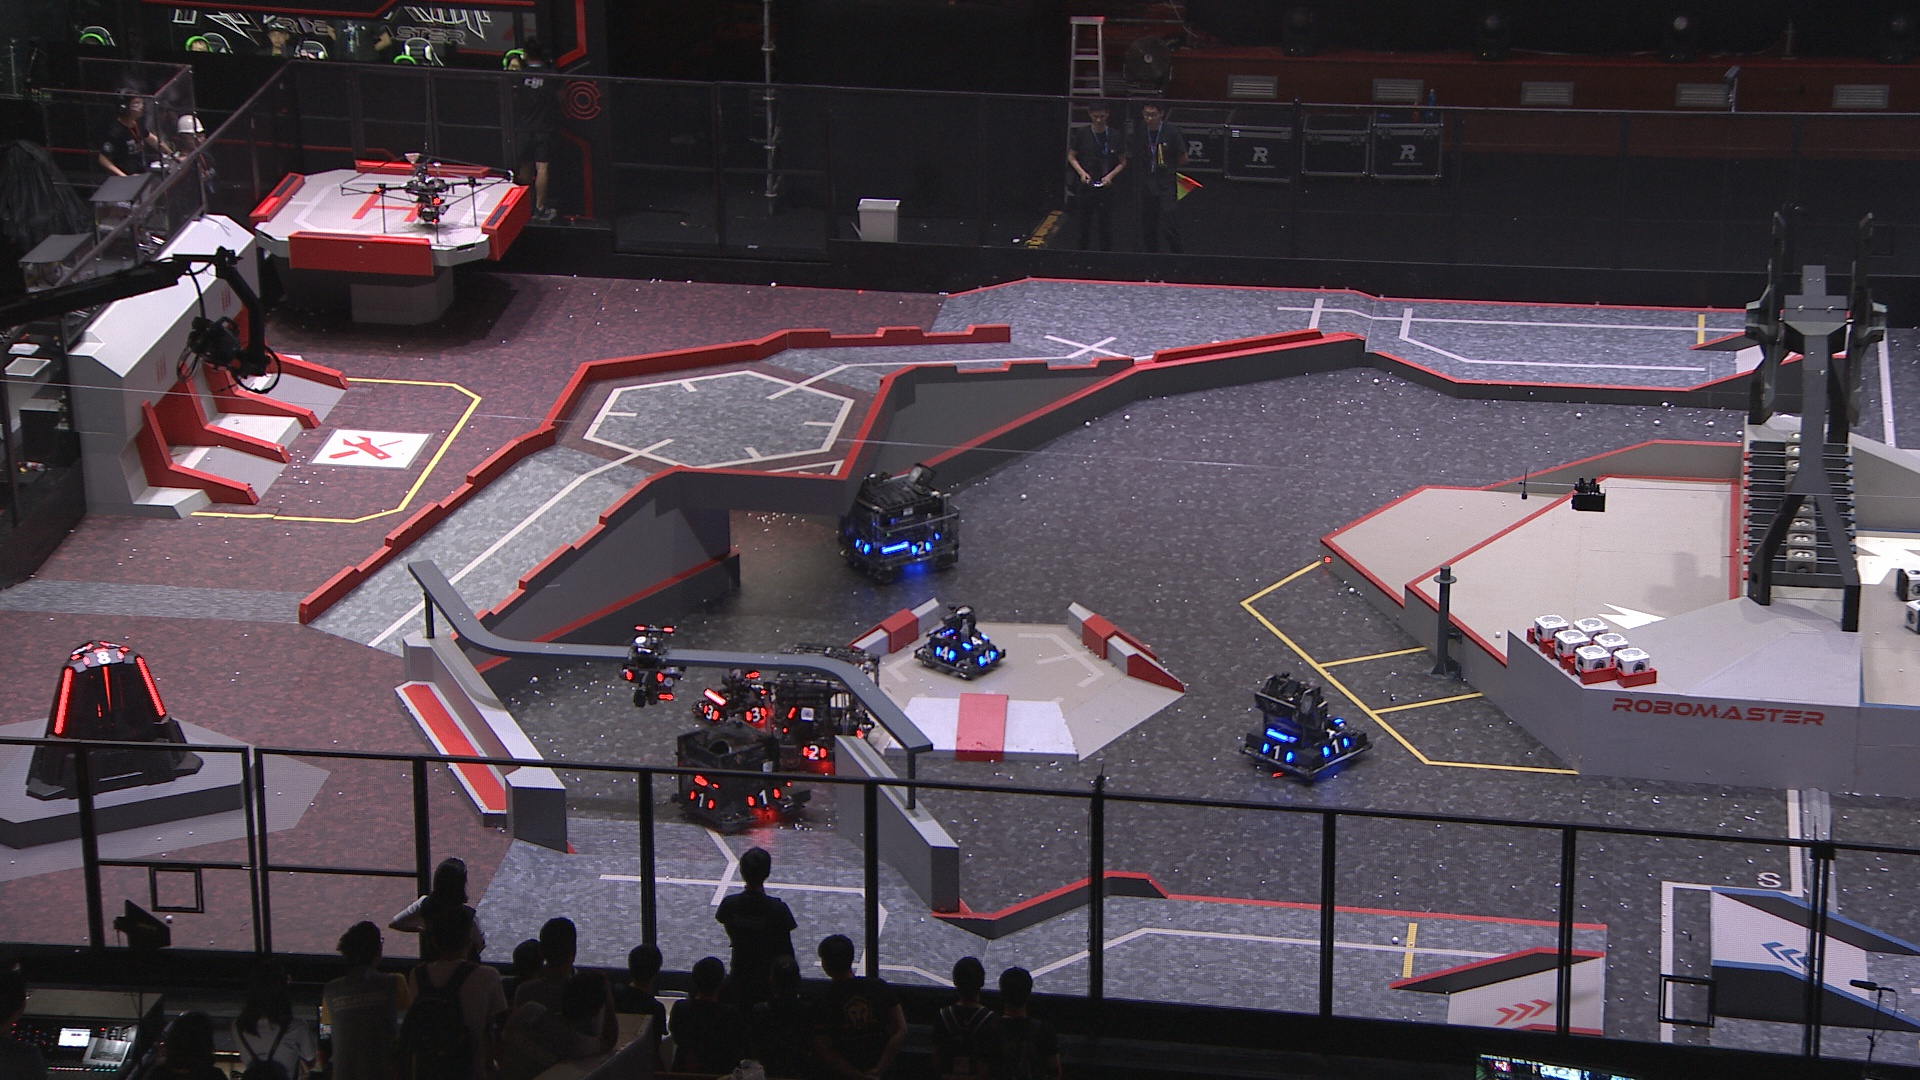armor: (135, 654, 167, 719), (50, 665, 76, 736), (1311, 732, 1353, 760), (76, 646, 127, 666), (744, 785, 783, 808), (622, 666, 665, 684), (1259, 742, 1295, 764), (686, 789, 713, 814), (960, 629, 989, 650), (102, 665, 115, 709), (699, 702, 723, 723), (800, 742, 827, 761), (855, 537, 874, 559), (744, 703, 765, 723), (910, 541, 934, 556), (977, 647, 998, 665), (932, 645, 956, 659), (749, 680, 769, 695)
base: (22, 636, 204, 803)
car: (829, 463, 965, 595), (761, 645, 887, 778), (1240, 669, 1375, 783), (673, 723, 808, 836), (913, 603, 1010, 684), (692, 657, 790, 731)
watcher: (618, 622, 688, 709)
